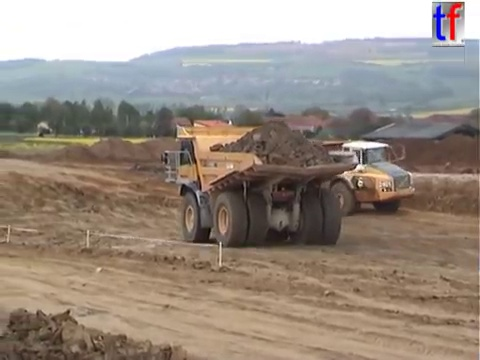truck: (159, 122, 360, 249), (233, 136, 418, 217)
